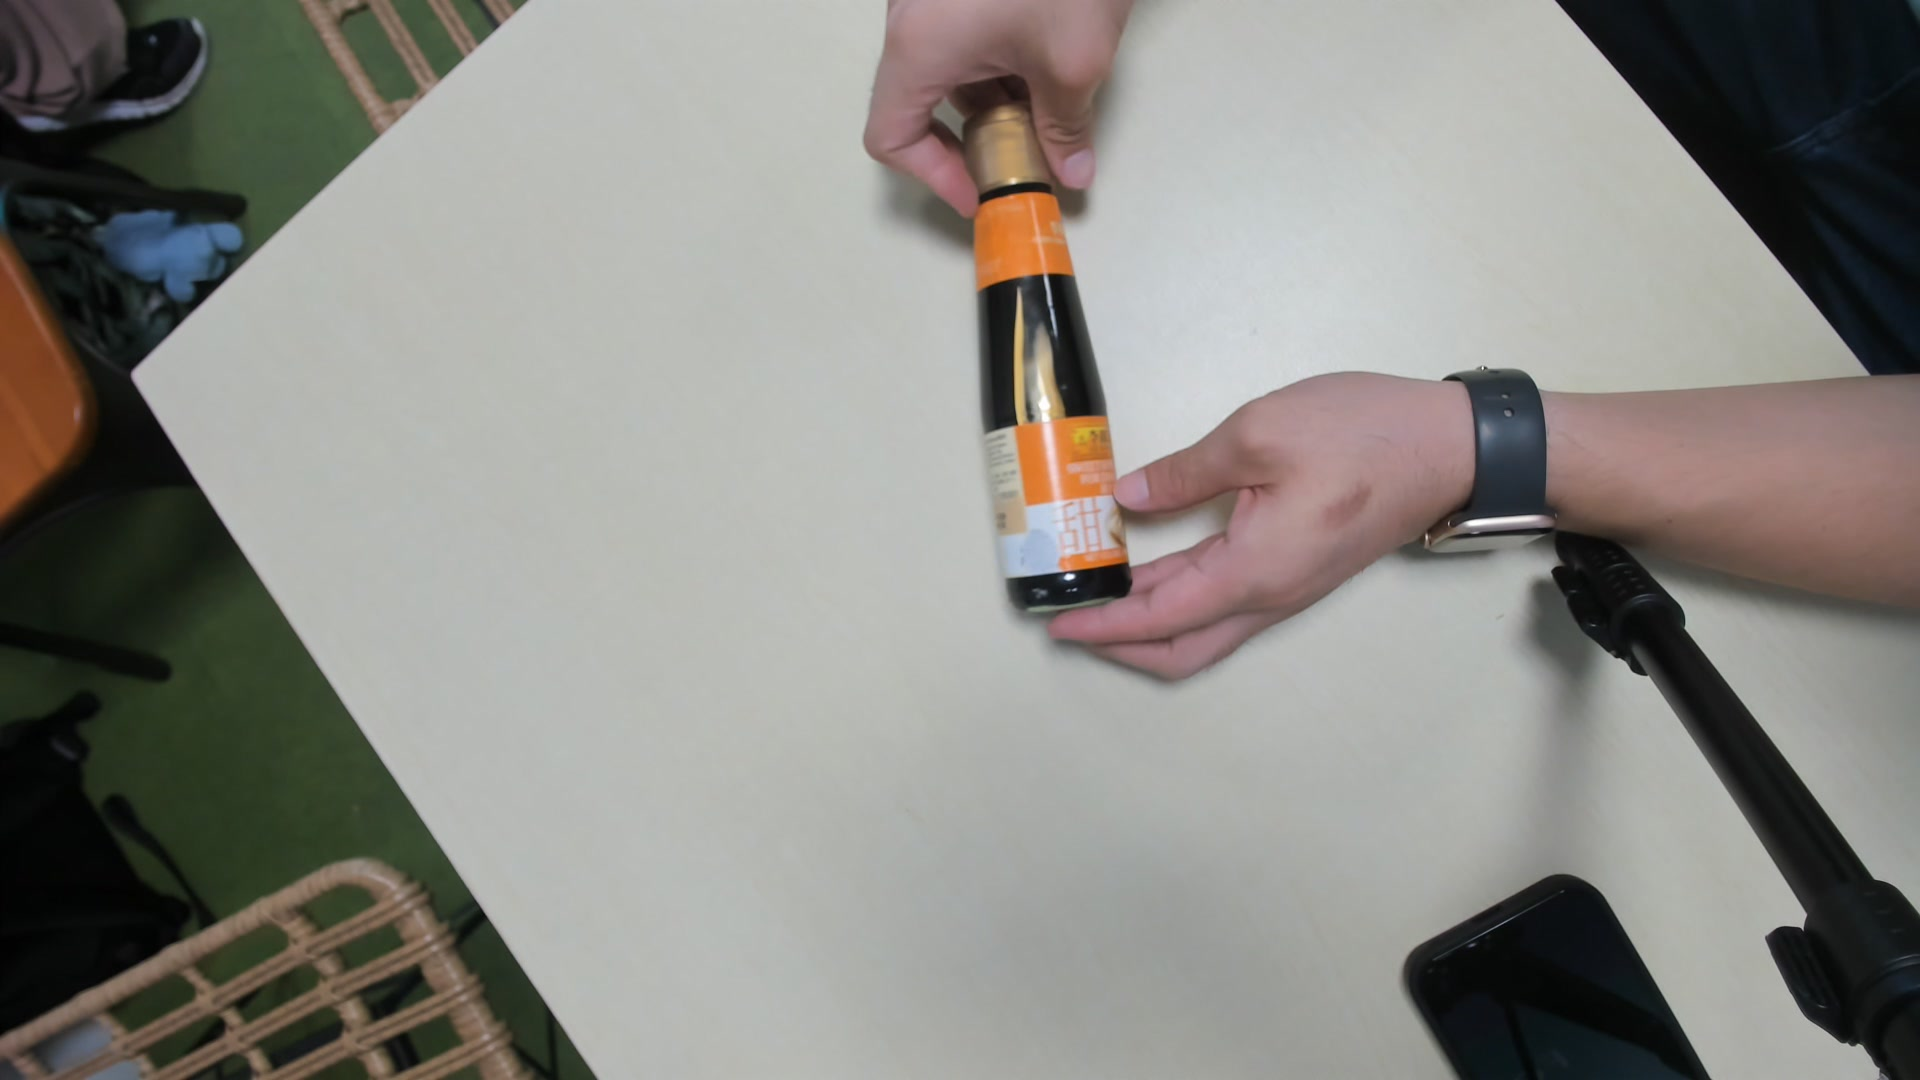OtherSauceDressing_200-299g_NonHalal_NonHealthy: (965, 69, 1135, 618)
